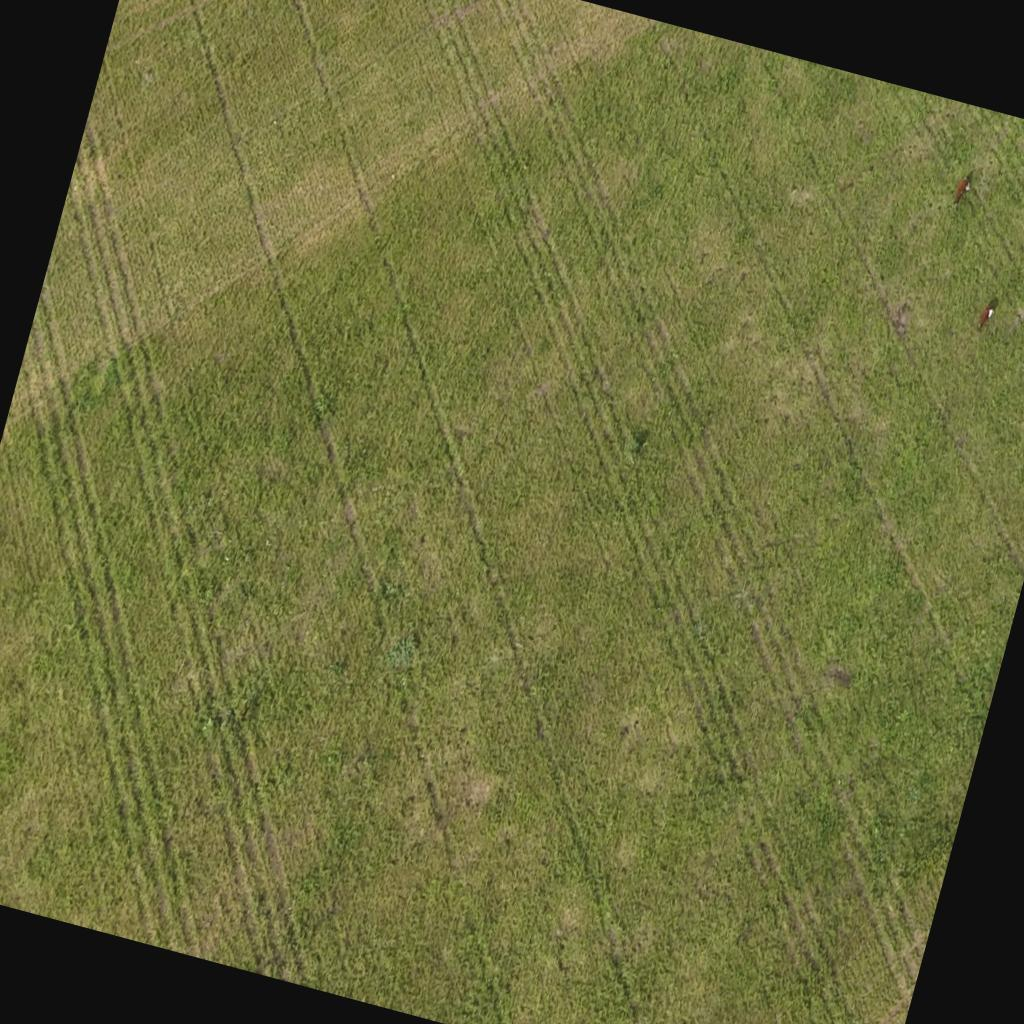cow: (952, 166, 976, 208), (974, 298, 998, 334)
